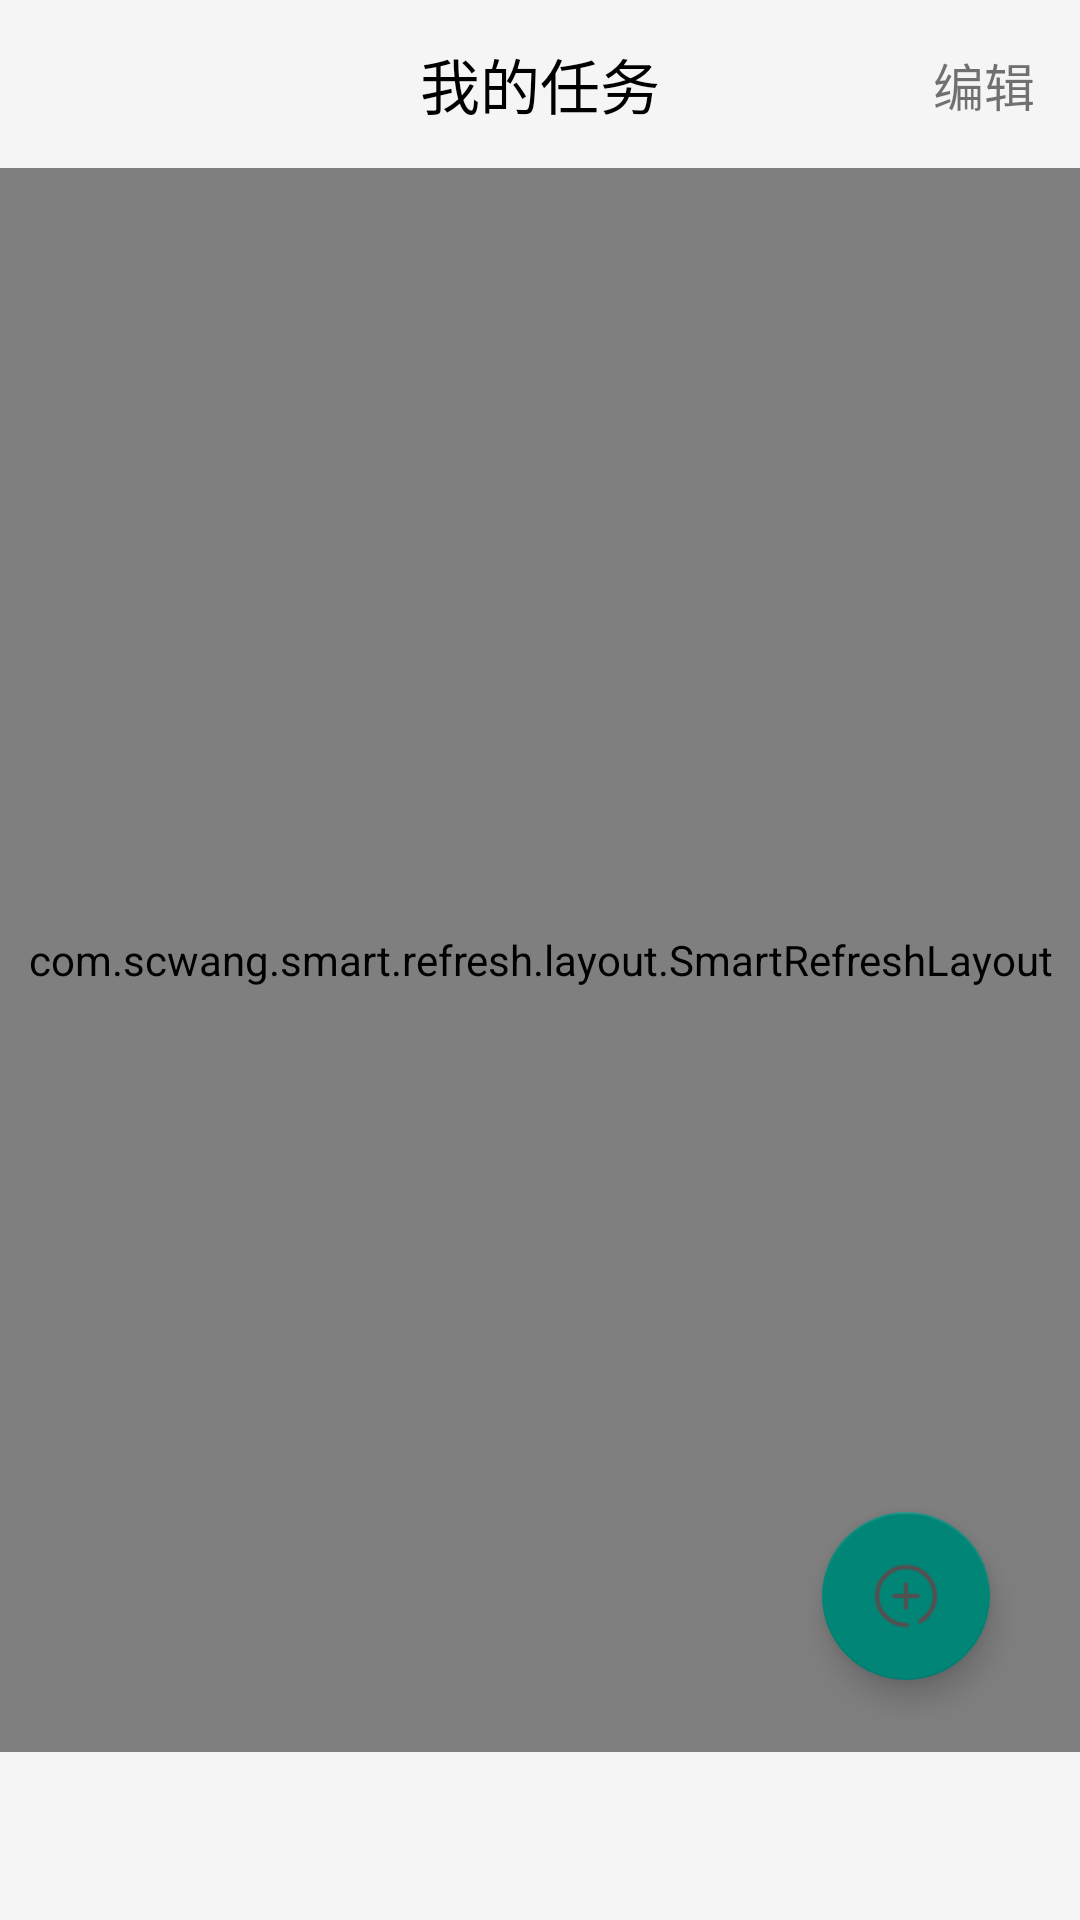

Where icons sit on this 1080px×1920px app screen, as (x1, y1, x2, y2):
add: (822, 1512, 990, 1680)
